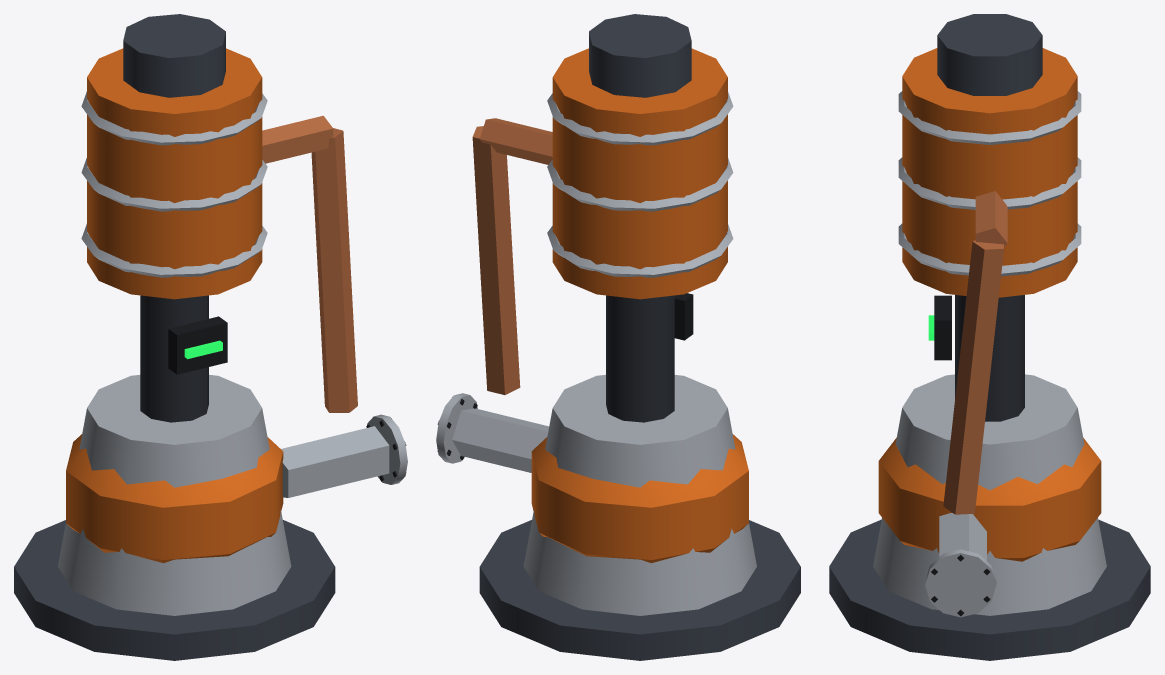
The model's file is turbine_vertical_turbopump.glb.
3 renders of one model, left to right at view 1: azimuth 30°, elevation 25°; view 2: azimuth 150°, elevation 25°; view 3: azimuth 270°, elevation 25°, orthographic.
Parts seen in each view (by area): view 1: turbine_vertical_turbopump; view 2: turbine_vertical_turbopump; view 3: turbine_vertical_turbopump.
Boxes of the visible parts, x1,y1,x2,y2 form: turbine_vertical_turbopump: [14, 14, 407, 660]; turbine_vertical_turbopump: [436, 14, 800, 660]; turbine_vertical_turbopump: [829, 14, 1150, 660].
Size of the model in its own units: 1.35 by 2.11 by 1.1.
